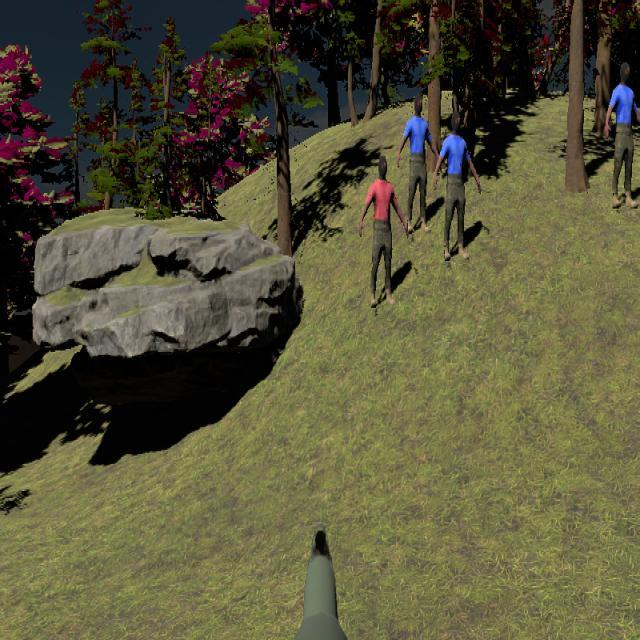Human: (359, 155, 410, 308), (434, 112, 481, 260), (396, 94, 441, 234)
